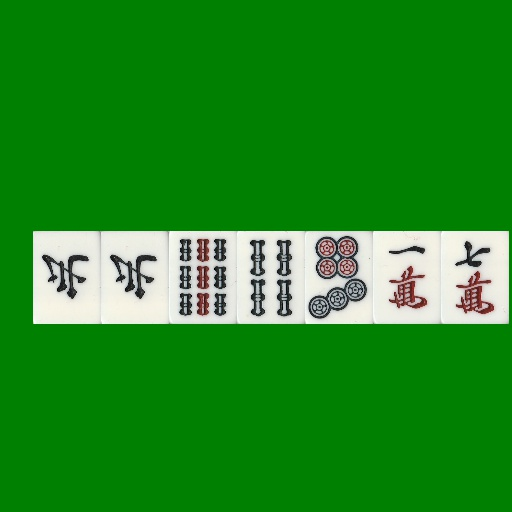1m: (373, 231, 441, 324)
4s: (237, 231, 305, 324)
7m: (441, 231, 509, 324)
7p: (305, 231, 373, 324)
9s: (169, 231, 237, 324)
north: (33, 231, 101, 324), (101, 231, 169, 324)
